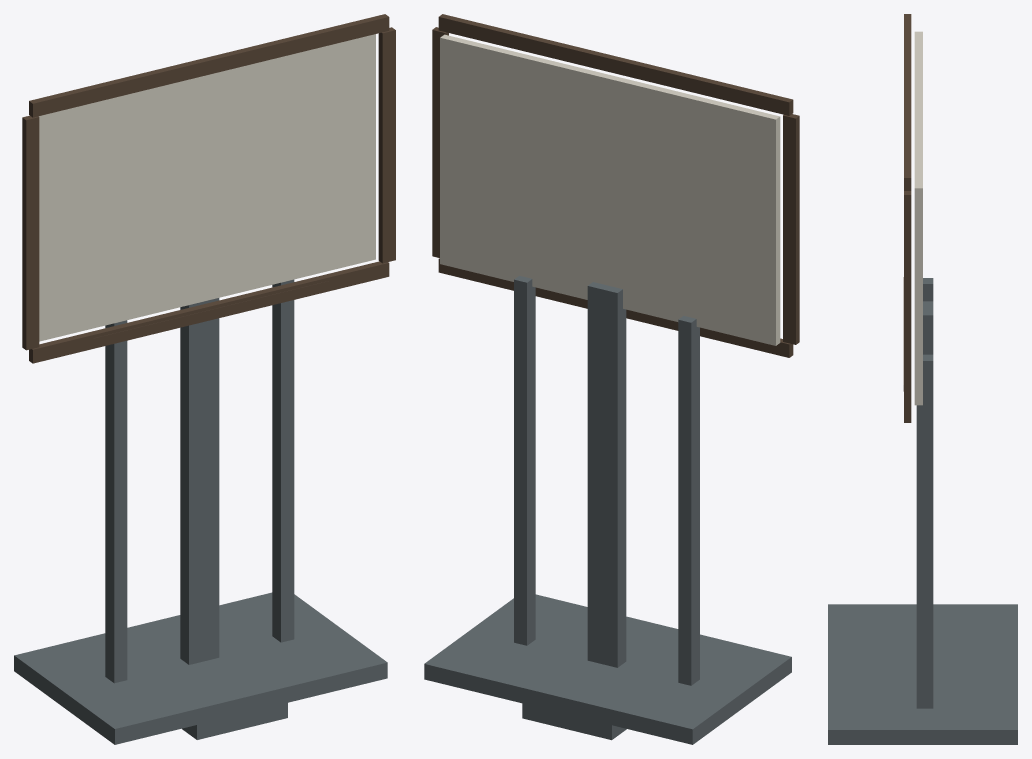
3 renders of one model, left to right at view 1: azimuth 30°, elevation 25°; view 2: azimuth 150°, elevation 25°; view 3: azimuth 270°, elevation 25°, orthographic. The views are drawn at different scales.
Parts seen in each view (by area): view 1: information-back, whiteboard-wide-sole, information-post, whiteboard-right-brace, whiteboard-left-brace, frame-top, frame-bottom, frame-left, frame-right, marker-shelf, information-base; view 2: information-back, whiteboard-wide-sole, information-post, whiteboard-left-brace, whiteboard-right-brace, frame-top, frame-left, frame-bottom, frame-right, information-base; view 3: whiteboard-wide-sole, whiteboard-right-brace, information-back, frame-right, frame-top, information-post.
Part boxes in pixels (bbox=[...]): information-back: bbox=[39, 34, 375, 341]; whiteboard-wide-sole: bbox=[14, 592, 387, 744]; information-post: bbox=[180, 298, 219, 664]; whiteboard-right-brace: bbox=[272, 279, 294, 642]; whiteboard-left-brace: bbox=[105, 320, 127, 683]; frame-top: bbox=[29, 14, 389, 117]; frame-bottom: bbox=[29, 261, 389, 363]; frame-left: bbox=[22, 115, 39, 350]; frame-right: bbox=[378, 27, 395, 263]; marker-shelf: bbox=[93, 281, 328, 345]; information-base: bbox=[182, 703, 287, 739]; information-back: bbox=[440, 34, 780, 345]; whiteboard-wide-sole: bbox=[424, 594, 791, 744]; information-post: bbox=[587, 282, 626, 667]; whiteboard-left-brace: bbox=[678, 315, 699, 685]; whiteboard-right-brace: bbox=[514, 275, 535, 645]; frame-top: bbox=[438, 14, 793, 115]; frame-left: bbox=[783, 114, 799, 344]; frame-bottom: bbox=[438, 258, 793, 357]; frame-right: bbox=[432, 27, 448, 257]; information-base: bbox=[522, 703, 626, 740]; whiteboard-wide-sole: bbox=[828, 604, 1017, 744]; whiteboard-right-brace: bbox=[916, 354, 933, 708]; information-back: bbox=[914, 31, 922, 405]; frame-right: bbox=[904, 191, 911, 411]; frame-top: bbox=[904, 14, 911, 190]; information-post: bbox=[923, 301, 933, 354].
Bounding box in the file's own units: 0.975 × 1.63 × 0.46.
